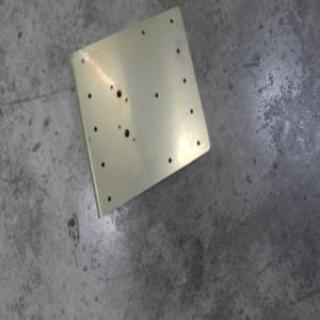MetalSheettrack_idkeyframe: (66, 3, 211, 222)
